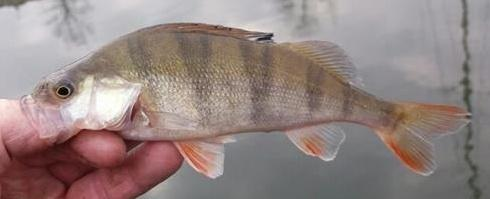Perch: (23, 18, 473, 177)
